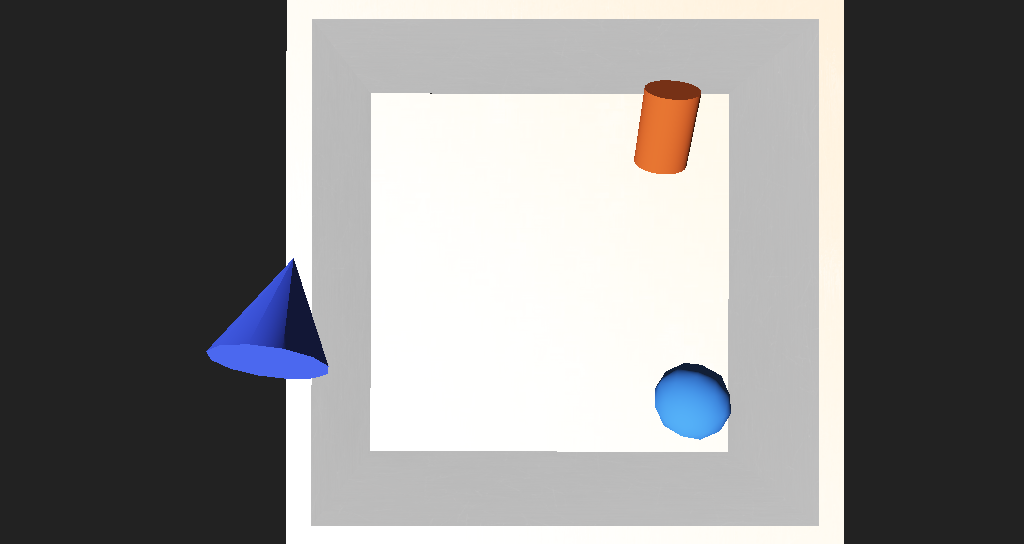cone: (576, 148, 637, 215)
cylinder: (212, 246, 340, 336)
sphere: (596, 320, 657, 367)
